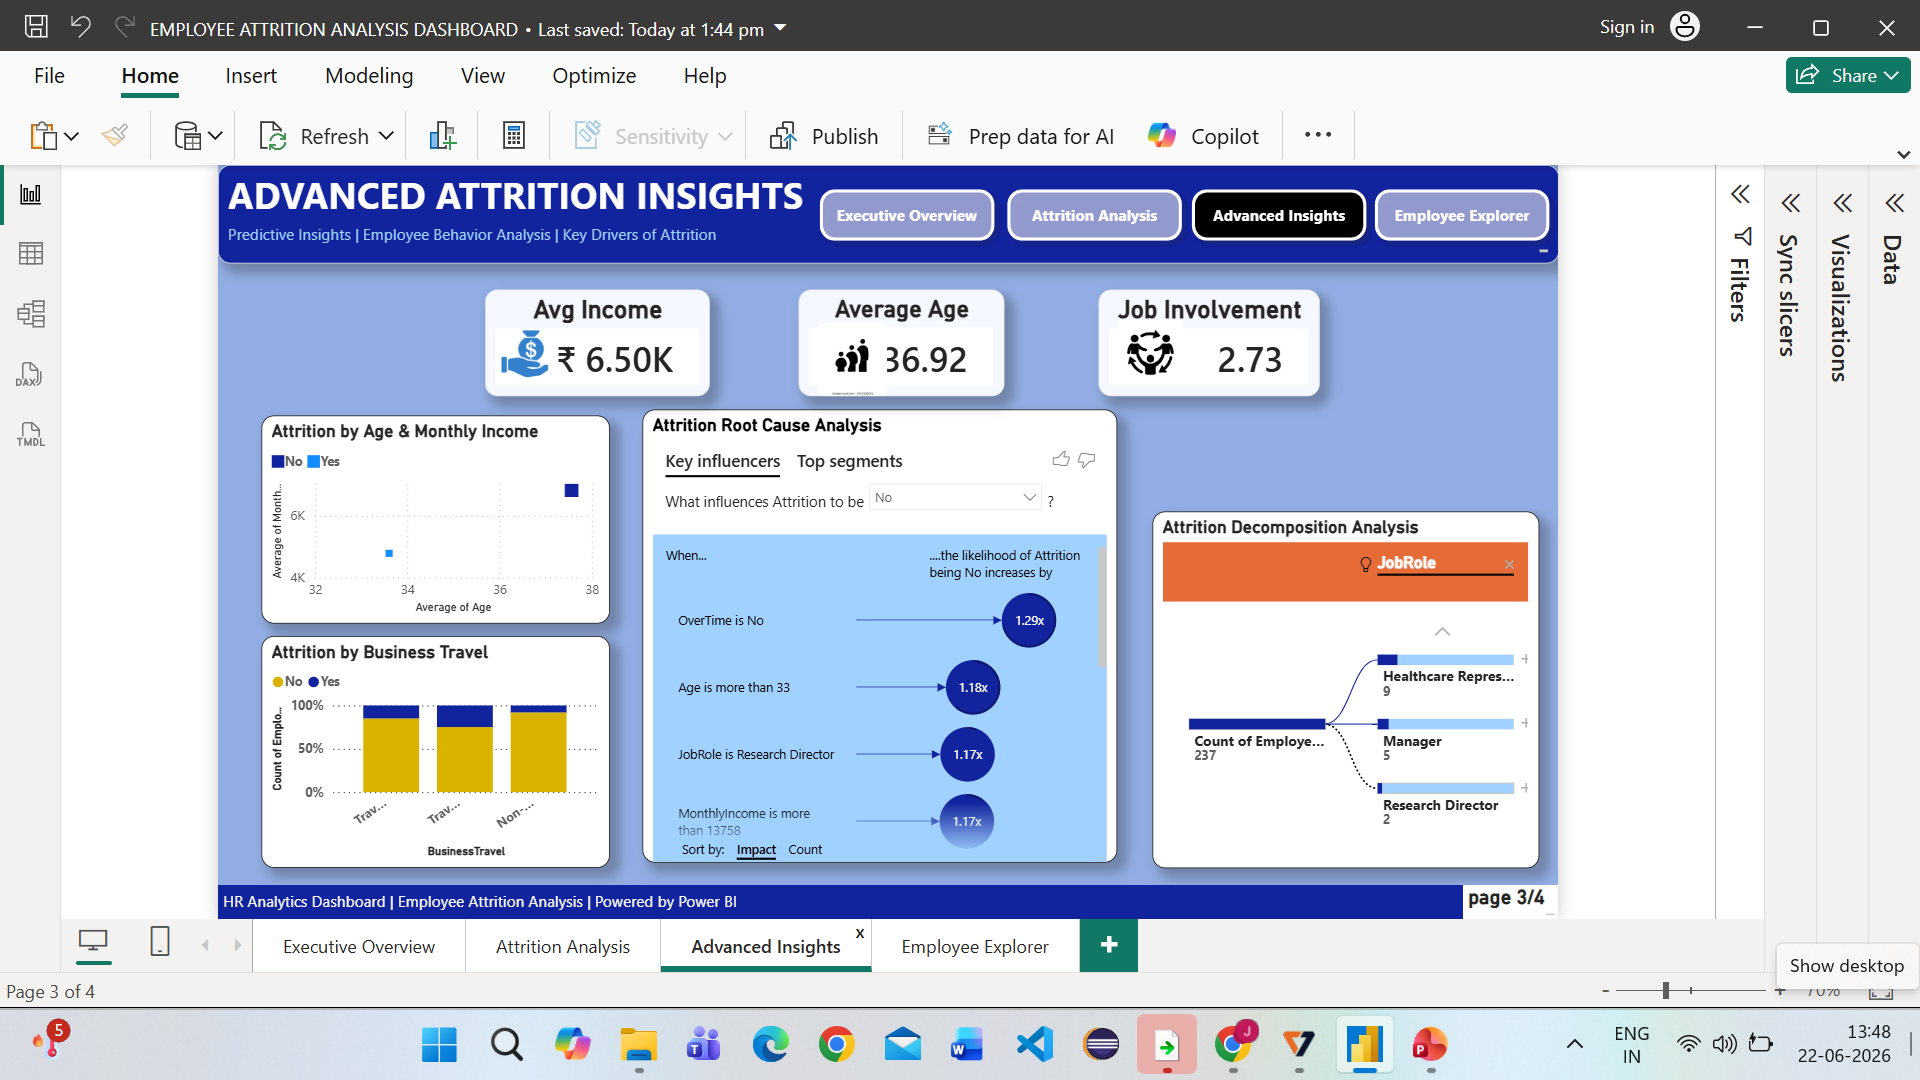

The dashboard page shown, as its layout file describes it:
{"tool":"powerbi","page":{"name":"Advanced Insights","canvas":[1280,720],"ordinal":2},"visuals":[{"type":"textbox","title":"ADVANCED ATTRITION INSIGHTS","box":[0,0,1280.4,93.8],"z":0},{"type":"scatterChart","title":"Attrition by Age & Monthly Income","fields":{"X":["Avg(WA_Fn-UseC_-HR-Employee-Attrition.Age)"],"Y":["Avg(WA_Fn-UseC_-HR-Employee-Attrition.MonthlyIncome)"],"Series":["WA_Fn-UseC_-HR-Employee-Attrition.Attrition"],"Size":["CountNonNull(WA_Fn-UseC_-HR-Employee-Attrition.EmployeeNumber)"]},"box":[41.4,238.6,332.4,198.8],"z":1000},{"type":"keyDriversVisual","title":"Attrition Root Cause Analysis","fields":{"Target":["WA_Fn-UseC_-HR-Employee-Attrition.Attrition"],"ExplainBy":["WA_Fn-UseC_-HR-Employee-Attrition.Age","WA_Fn-UseC_-HR-Employee-Attrition.Department","WA_Fn-UseC_-HR-Employee-Attrition.BusinessTravel","WA_Fn-UseC_-HR-Employee-Attrition.JobRole","WA_Fn-UseC_-HR-Employee-Attrition.JobSatisfaction","WA_Fn-UseC_-HR-Employee-Attrition.MaritalStatus","WA_Fn-UseC_-HR-Employee-Attrition.MonthlyIncome","WA_Fn-UseC_-HR-Employee-Attrition.OverTime"]},"box":[405.6,233.8,453.3,432.6],"z":2000},{"type":"decompositionTreeVisual","title":"Attrition Decomposition Analysis","fields":{"Analyze":["CountNonNull(WA_Fn-UseC_-HR-Employee-Attrition.EmployeeNumber)"],"ExplainBy":["WA_Fn-UseC_-HR-Employee-Attrition.JobRole","WA_Fn-UseC_-HR-Employee-Attrition.JobSatisfaction","WA_Fn-UseC_-HR-Employee-Attrition.Salary Slab","WA_Fn-UseC_-HR-Employee-Attrition.Department","WA_Fn-UseC_-HR-Employee-Attrition.OverTime","WA_Fn-UseC_-HR-Employee-Attrition.BusinessTravel"]},"box":[892.3,330.8,369,340.4],"z":3000},{"type":"hundredPercentStackedColumnChart","title":"Attrition by Business Travel","fields":{"Category":["WA_Fn-UseC_-HR-Employee-Attrition.BusinessTravel"],"Y":["CountNonNull(WA_Fn-UseC_-HR-Employee-Attrition.EmployeeNumber)"],"Series":["WA_Fn-UseC_-HR-Employee-Attrition.Attrition"]},"box":[41.4,450.1,332.4,221.1],"z":4000},{"type":"cardVisual","title":"Avg Income","fields":{"Data":["WA_Fn-UseC_-HR-Employee-Attrition.Avg Monthly Income"]},"box":[116.1,109.8,214.7,101.8],"z":5000},{"type":"cardVisual","title":"Job Involvement","fields":{"Data":["WA_Fn-UseC_-HR-Employee-Attrition.Avg Job Involvement1"]},"box":[658.5,109.8,211.6,101.8],"z":6000},{"type":"cardVisual","title":"Average Age","fields":{"Data":["Avg(WA_Fn-UseC_-HR-Employee-Attrition.Age)"]},"box":[391.3,109.8,208.4,101.8],"z":7000},{"type":"image","box":[391.3,136.8,66.8,70],"z":8000},{"type":"image","box":[127.2,144.7,44.5,54.1],"z":9000},{"type":"image","box":[682.4,144.7,62,68.4],"z":10000},{"type":"textbox","box":[0,687.1,1280.4,33.4],"z":17001},{"type":"textbox","title":"page 3/4","box":[1188.2,687.1,92.3,33.4],"z":17002},{"type":"actionButton","box":[566.3,14.3,184.5,66.8],"z":17003},{"type":"actionButton","box":[744.4,14.3,184.5,66.8],"z":17004},{"type":"actionButton","box":[921,14.3,184.5,66.8],"z":17005},{"type":"actionButton","box":[1095.9,14.3,184.5,66.8],"z":17006},{"type":"cardVisual","title":"Work-Life","fields":{"Data":["WA_Fn-UseC_-HR-Employee-Attrition.Average Work Life Balance"]},"box":[928.9,109.8,211.6,101.8],"z":17007},{"type":"image","box":[938.5,144.7,74.8,55.7],"z":17008}]}

Visuals, with their boxes on the page's 1280x720 design canvas (x1, y1, x2, y2). These are canvas units, not pixel positions in the 1920x1080 screenshot, which may show the page scaled, cropped or inside an application window:
"ADVANCED ATTRITION INSIGHTS" textbox: crop(0, 0, 1280, 94)
"Attrition by Age & Monthly Income" scatterChart: crop(41, 239, 374, 437)
"Attrition Root Cause Analysis" keyDriversVisual: crop(406, 234, 859, 666)
"Attrition Decomposition Analysis" decompositionTreeVisual: crop(892, 331, 1261, 671)
"Attrition by Business Travel" hundredPercentStackedColumnChart: crop(41, 450, 374, 671)
"Avg Income" cardVisual: crop(116, 110, 331, 212)
"Job Involvement" cardVisual: crop(658, 110, 870, 212)
"Average Age" cardVisual: crop(391, 110, 600, 212)
image: crop(391, 137, 458, 207)
image: crop(127, 145, 172, 199)
image: crop(682, 145, 744, 213)
textbox: crop(0, 687, 1280, 720)
"page 3/4" textbox: crop(1188, 687, 1280, 720)
actionButton: crop(566, 14, 751, 81)
actionButton: crop(744, 14, 929, 81)
actionButton: crop(921, 14, 1106, 81)
actionButton: crop(1096, 14, 1280, 81)
"Work-Life" cardVisual: crop(929, 110, 1140, 212)
image: crop(938, 145, 1013, 200)
